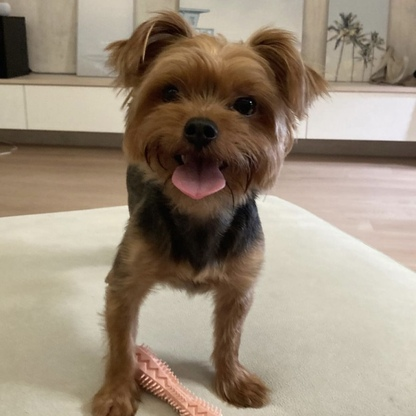yorkshire: (86, 10, 332, 416)
